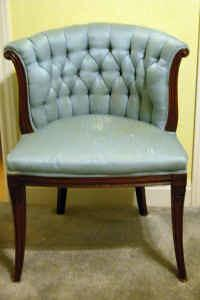chair: (3, 22, 192, 283)
